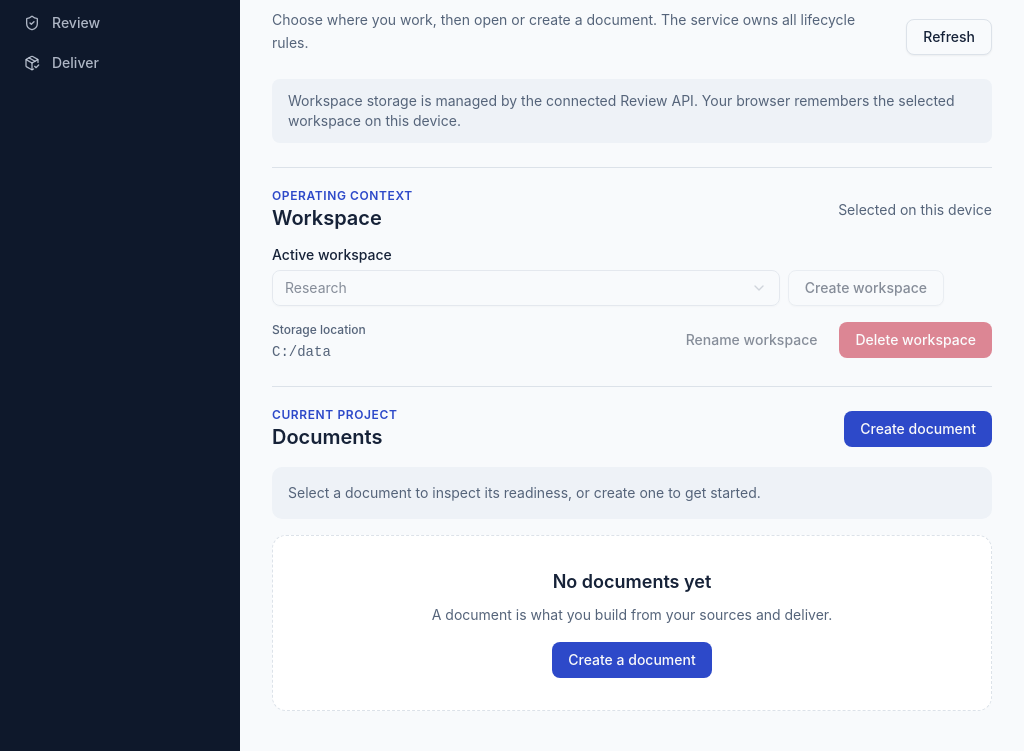
Test: every empty state carries a next step › documents offers to create one
The width and height of the screenshot is (1024, 751).
(page scrolled)
Click the button "Create a document": x=632, y=660 [552,642,712,678]
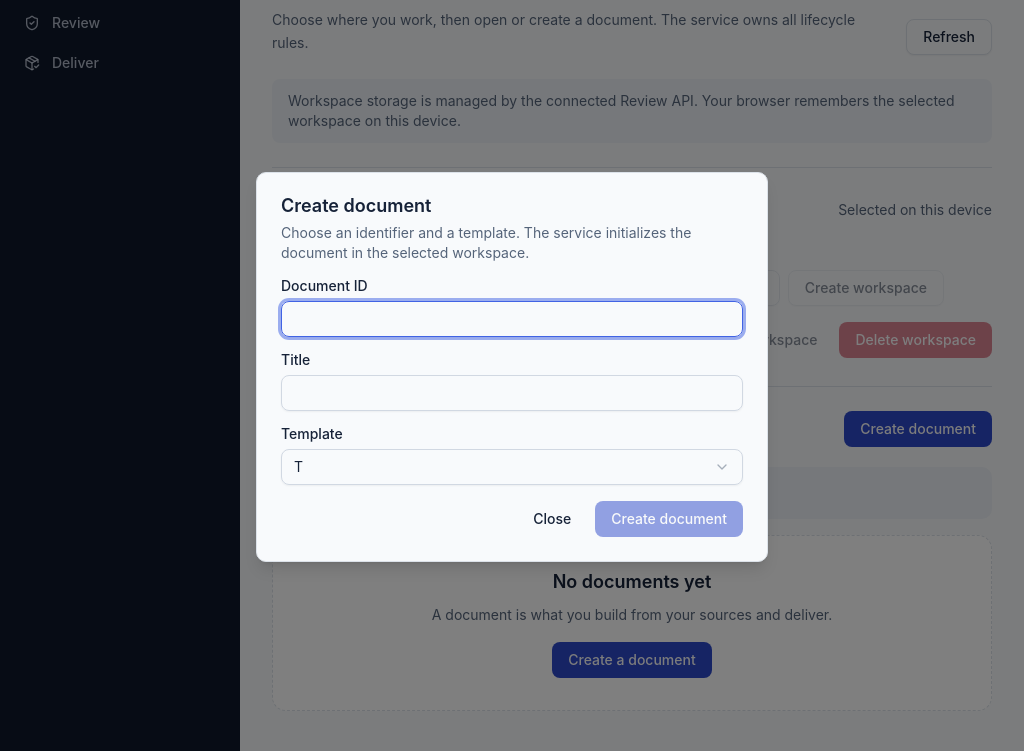
Now the dialog is shown, box [256,172,768,562]
